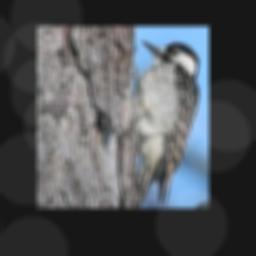Woodpecker: (114, 41, 200, 208)
